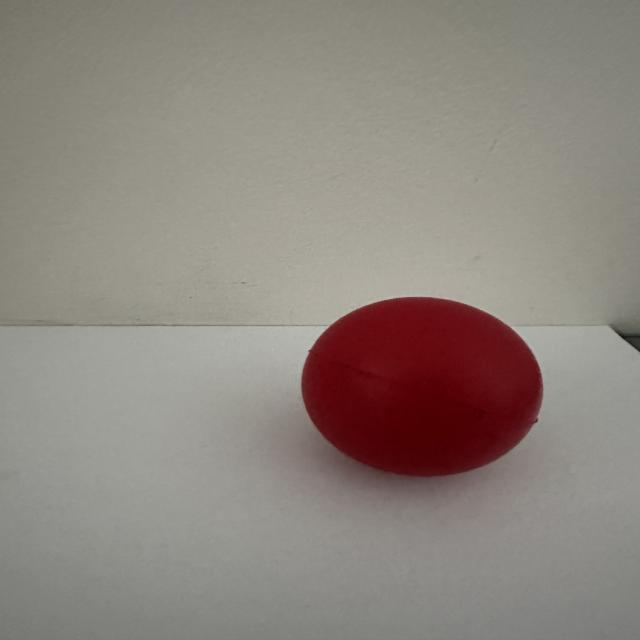red_ball: (281, 271, 566, 497)
